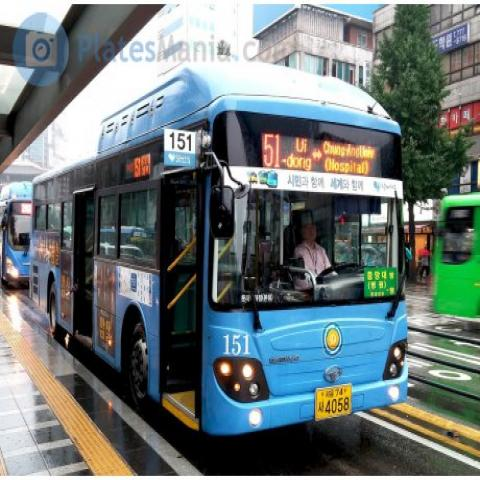LP: (311, 378, 365, 428)
